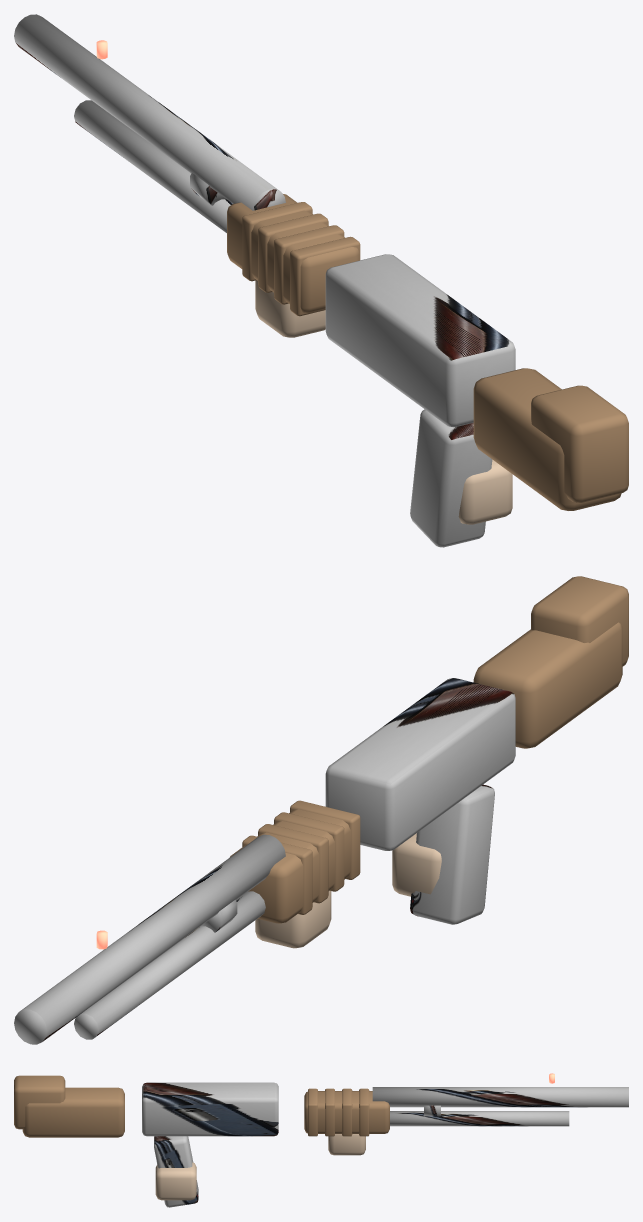
File: shotgun.glb
3 renders of one model, top to bottom at view 1: azimuth 30°, elevation 25°; view 2: azimuth 150°, elevation 25°; view 3: azimuth 270°, elevation 25°, orthographic. The views are drawn at different scales.
Visible parts, largest first — view 1: WeaponMesh, Mag; view 2: WeaponMesh, Mag; view 3: WeaponMesh, Mag.
Boxes of the visible parts, left/top/right/bottom form: WeaponMesh: left=14, top=14, right=628, bottom=547; Mag: left=227, top=194, right=359, bottom=312; WeaponMesh: left=14, top=576, right=628, bottom=1044; Mag: left=230, top=809, right=350, bottom=923; WeaponMesh: left=14, top=1073, right=628, bottom=1207; Mag: left=304, top=1091, right=389, bottom=1133.
Bounding box in the file's own units: 0.058 × 0.1655 × 0.72.
Materials: 5 (2 with a texture image).
